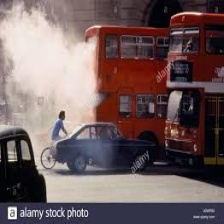smoke: (3, 16, 89, 122)
